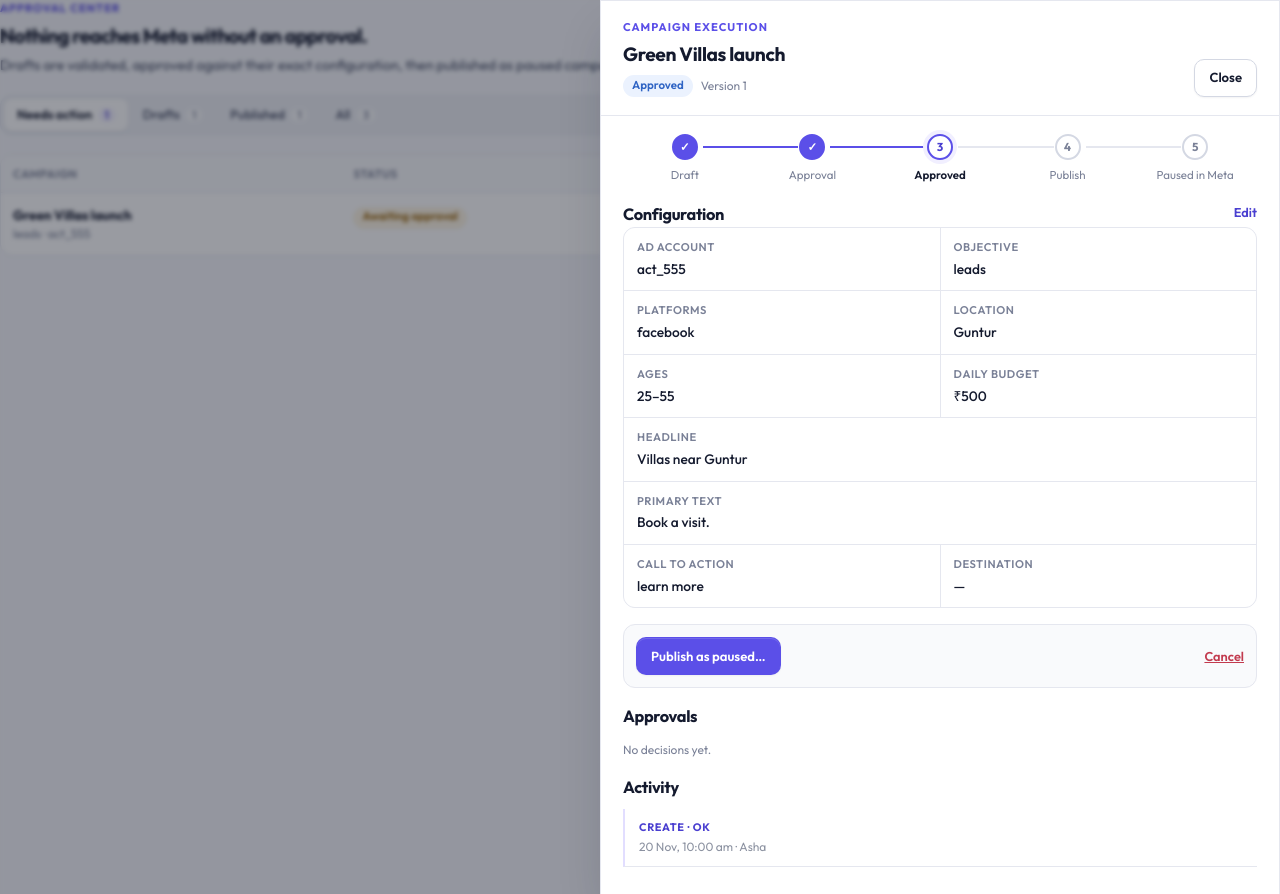
Campaign approvals › publishing needs an explicit acknowledgement
The width and height of the screenshot is (1280, 894).
Click the button "Publish as paused…": click(708, 656) [636,638,780,676]
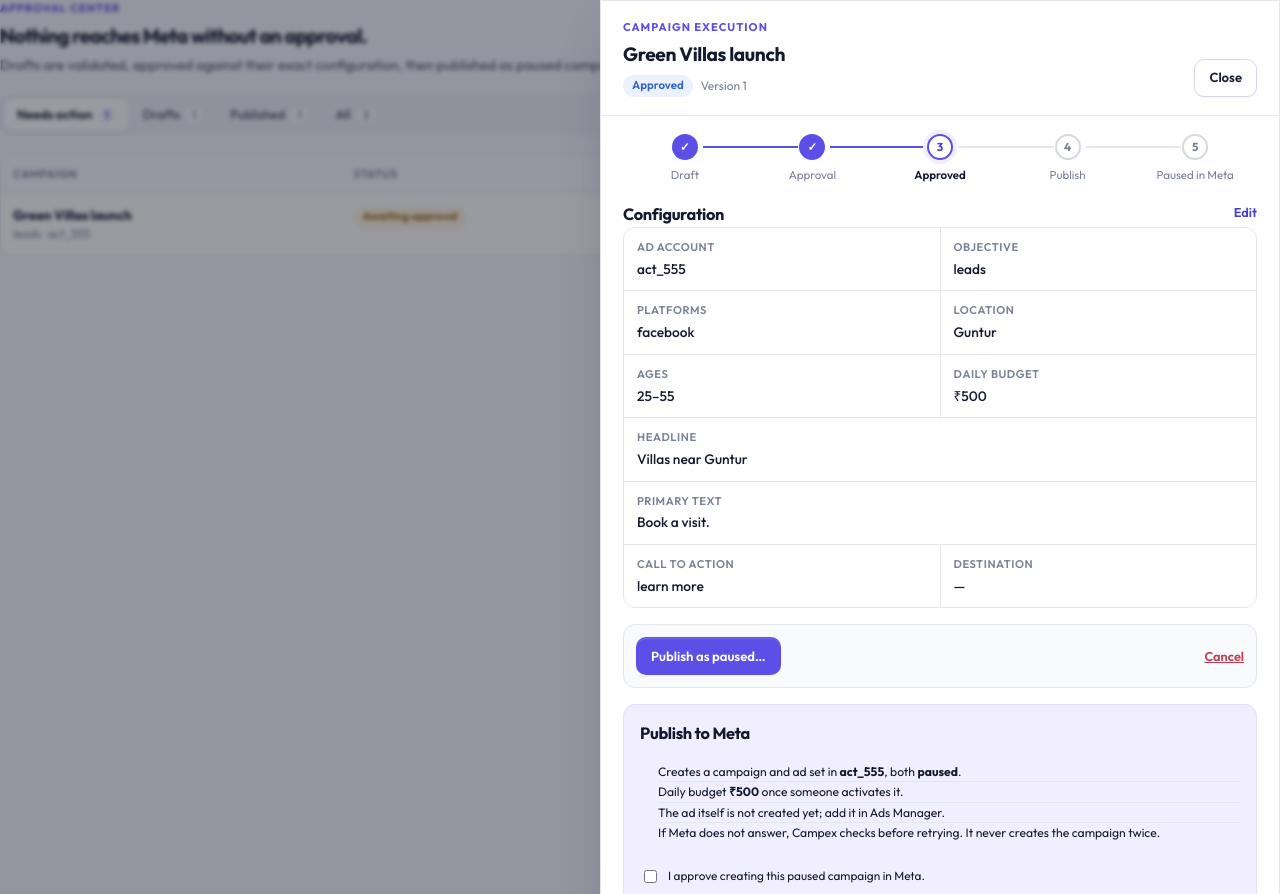
Click the checkbox labelled "I approve creating this paused campaign in Meta.": click(650, 876) [644,870,657,883]
(page scrolled)
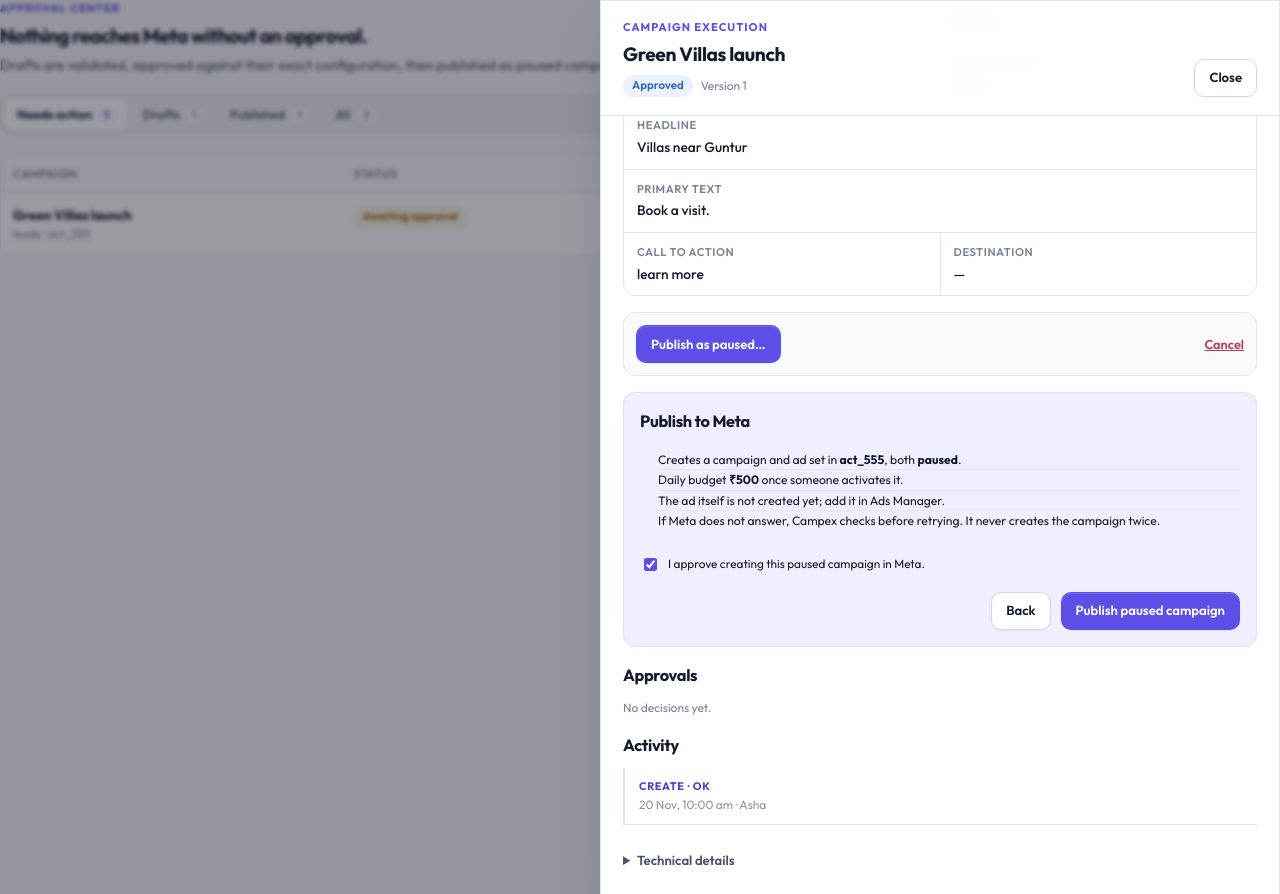
Click the button "Publish paused campaign": click(1150, 611) [1060,592,1240,630]
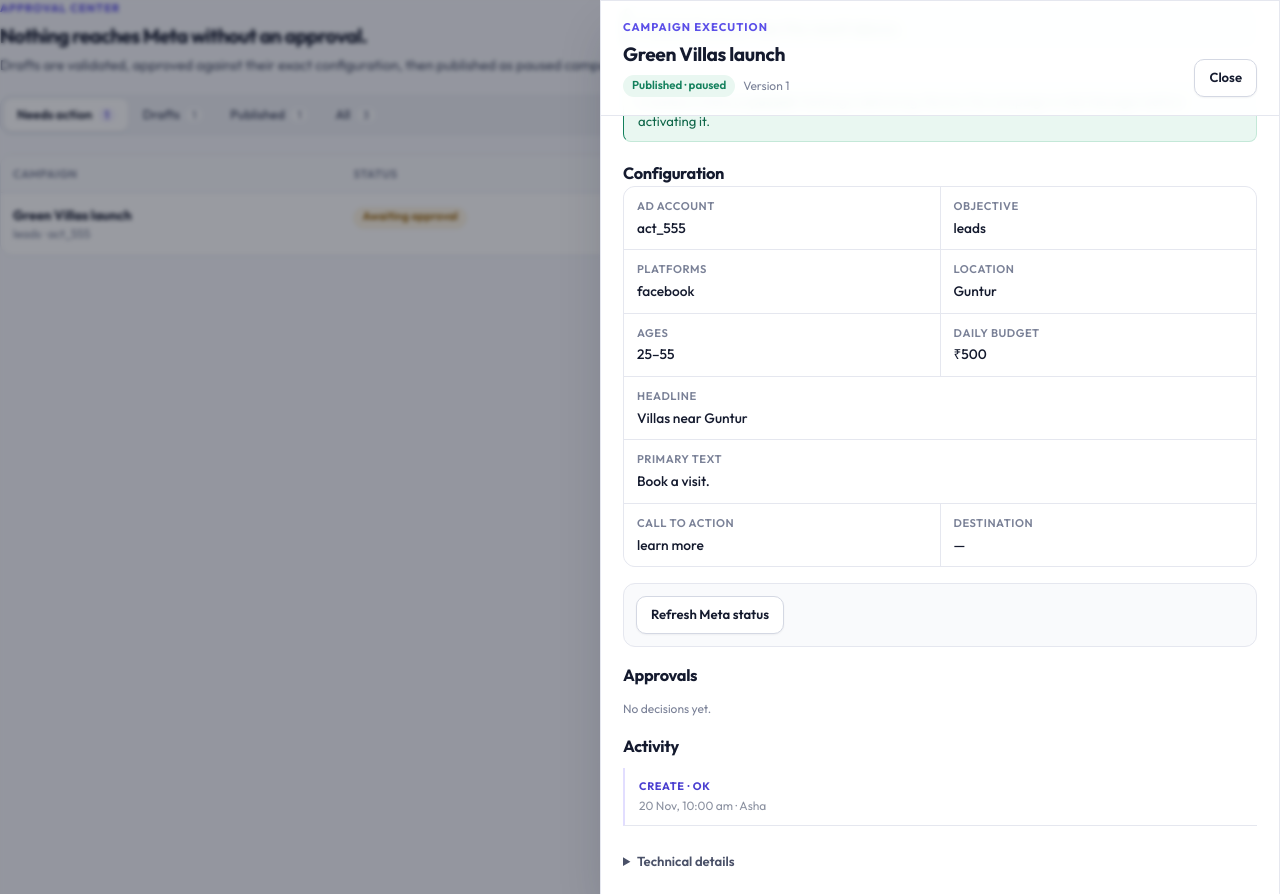
Expected: the text "Nothing is delivering" is shown, [638,93,1183,129]
